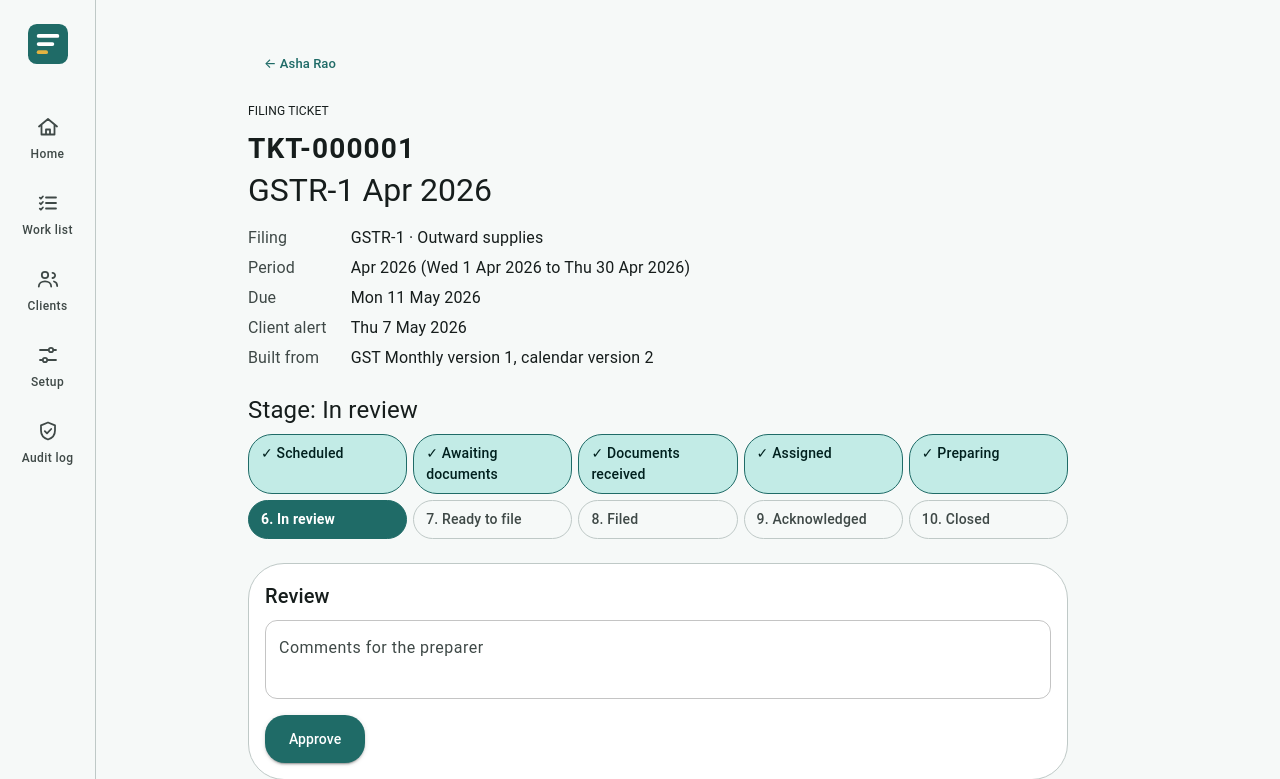
Test case: Ticket page › says when someone else has already moved it
The width and height of the screenshot is (1280, 779).
Click the button "Approve".
click(315, 739)  # box 265,715 -> 365,763
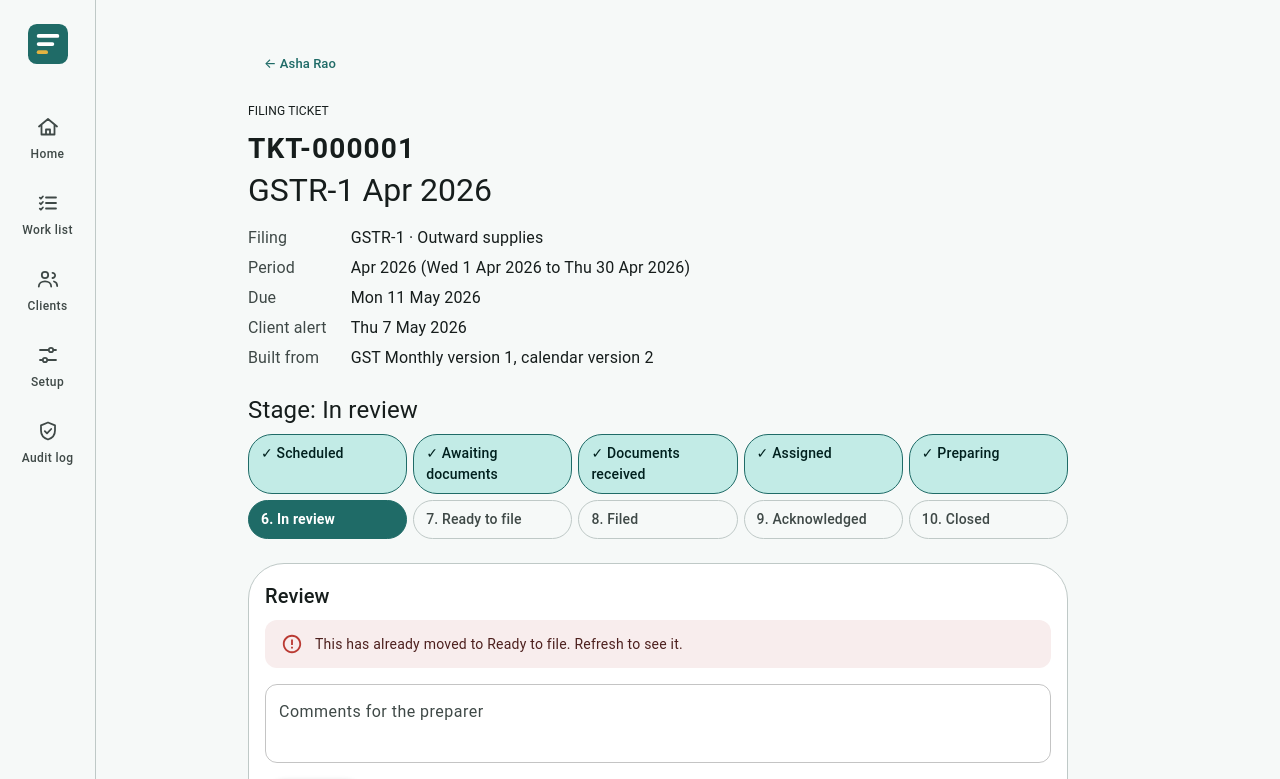
Check: the text "This has already moved to Ready to file. Refresh to see it." is shown, box 315,636 -> 683,652
